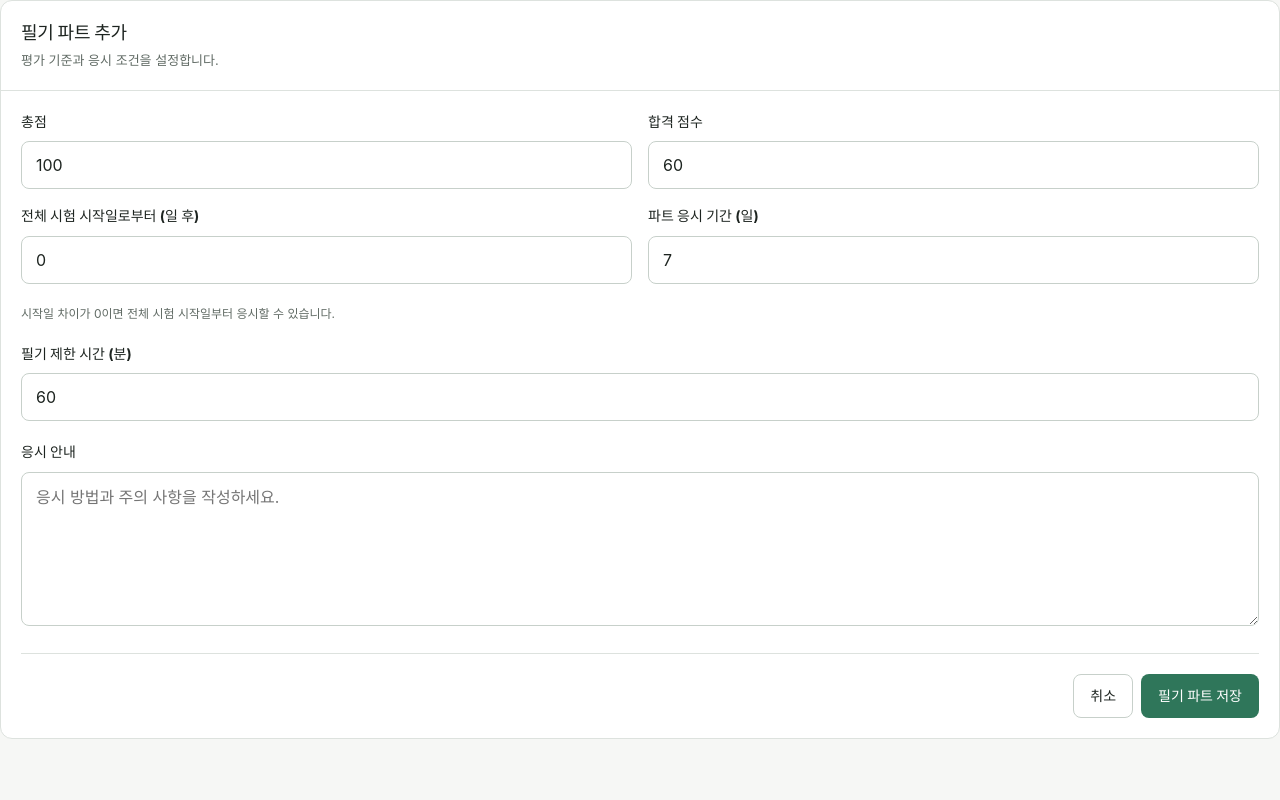
Test: 시험 템플릿 › 합격 점수와 파일 개수의 모순을 저장 전에 차단한다
This screenshot has width=1280, height=800.
Replace the text in the number field labelled "합격 점수" with "101" at (954, 165), box [648, 141, 1259, 189]
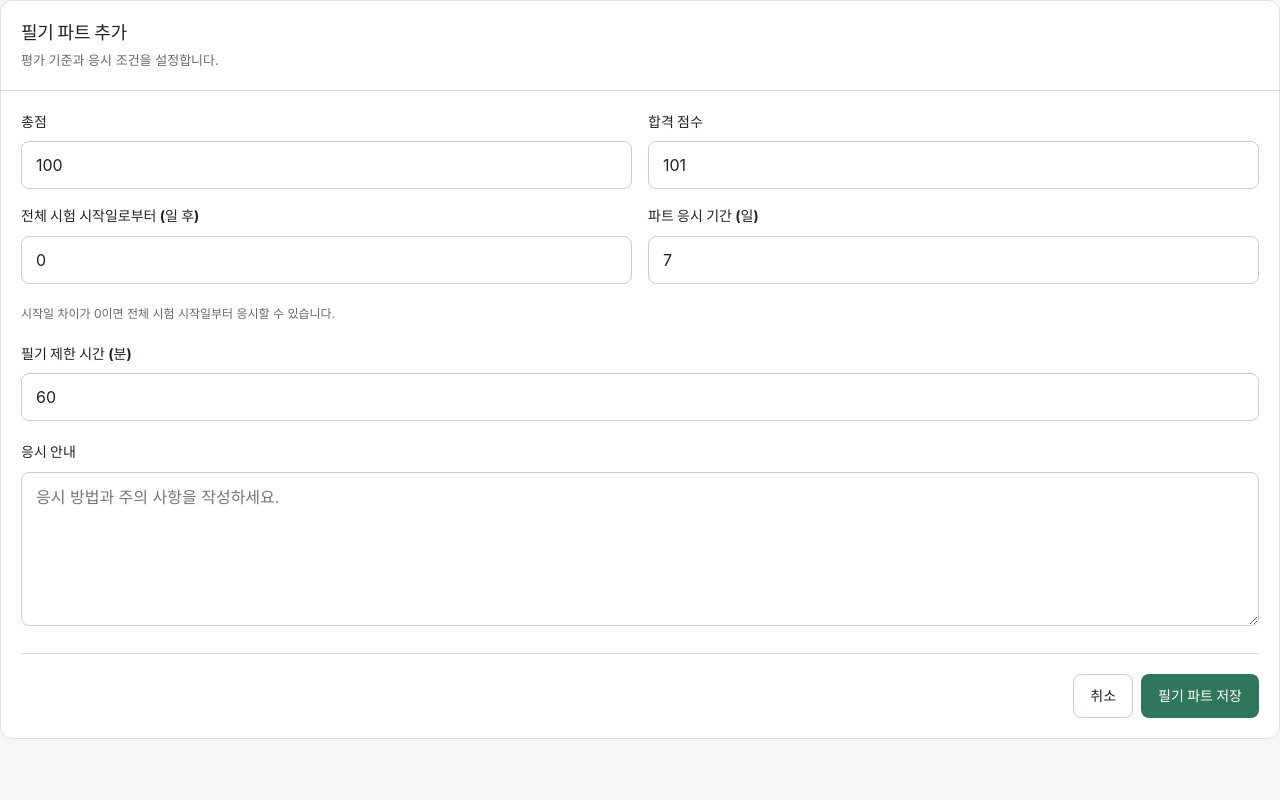
Click the button "필기 파트 저장" at (1200, 696), box [1141, 674, 1259, 718]
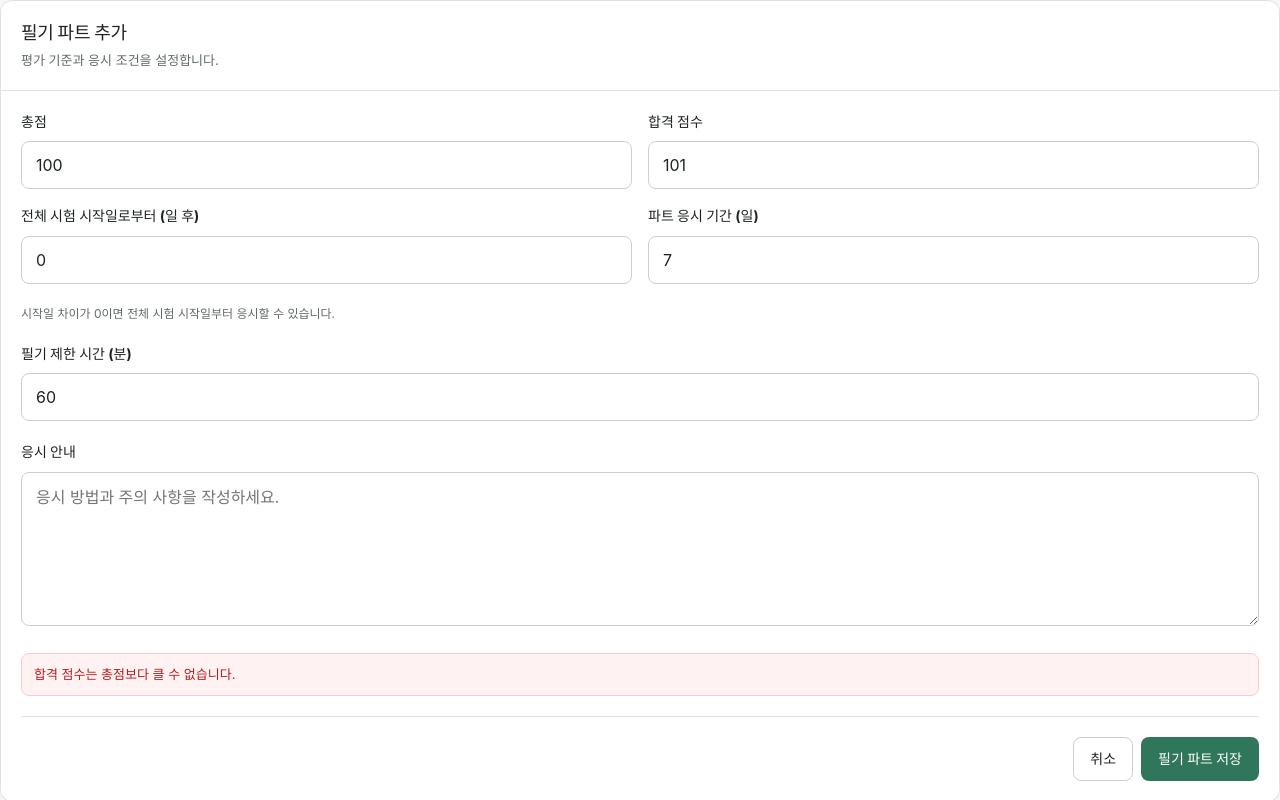
Expected: the message shows "합격 점수는 총점보다", [34, 666, 235, 682]
